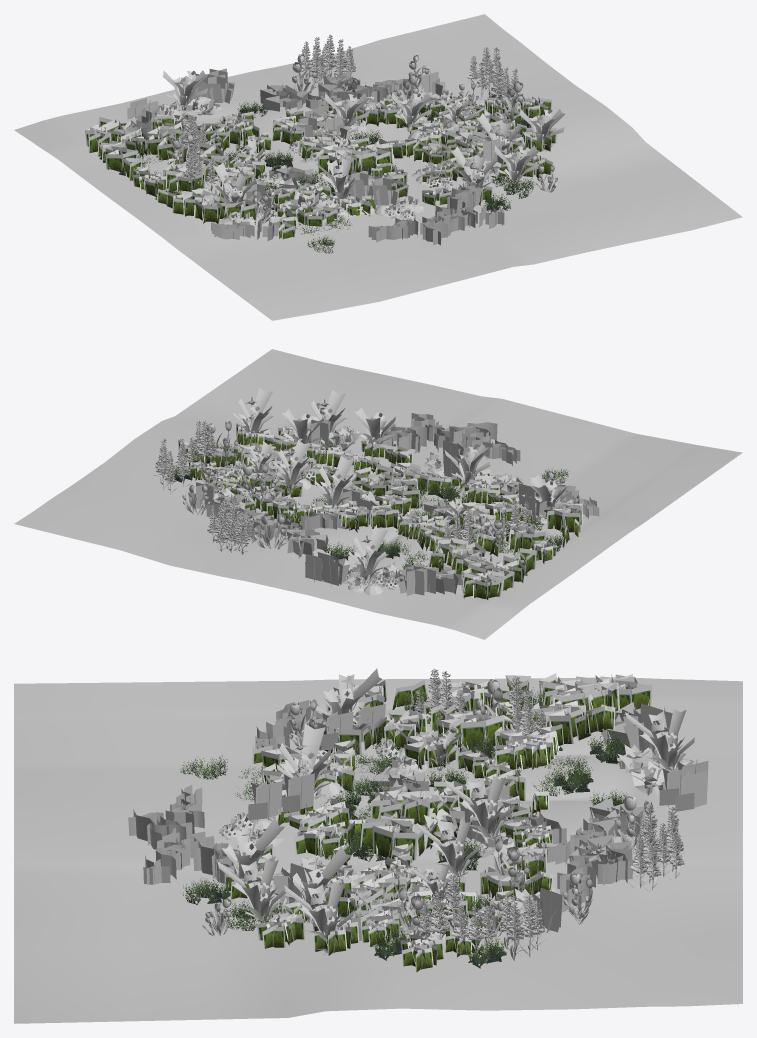
The model's file is CaoPing.fbx.
The picture shows the model from 3 angles, top to bottom: view 1: azimuth 30°, elevation 25°; view 2: azimuth 150°, elevation 25°; view 3: azimuth 270°, elevation 25°; orthographic projection. The views are drawn at different scales.
Parts seen in each view (by area): view 1: huanyuan_ground, bushe2, h02, h04, bushh1, bushd, flower02, Petal; view 2: huanyuan_ground, bushe2, h02, h04, bushh1, bushd, flower02, Petal; view 3: huanyuan_ground, bushe2, h02, bushh1, h04, bushd, flower02, Petal.
Part boxes in pixels (x1,y1,x2,y2): huanyuan_ground: [14, 14, 742, 320]; bushe2: [85, 92, 556, 239]; h02: [158, 70, 564, 225]; h04: [127, 68, 506, 216]; bushh1: [99, 73, 535, 253]; bushd: [211, 71, 504, 245]; flower02: [175, 34, 523, 191]; Petal: [171, 54, 557, 224]; huanyuan_ground: [14, 349, 742, 639]; bushe2: [178, 423, 582, 599]; h02: [210, 388, 568, 592]; h04: [188, 419, 547, 595]; bushh1: [165, 426, 569, 594]; bushd: [206, 413, 599, 538]; flower02: [153, 420, 532, 554]; Petal: [182, 403, 554, 552]; huanyuan_ground: [14, 677, 742, 1023]; bushe2: [224, 673, 652, 972]; h02: [217, 668, 694, 954]; bushh1: [180, 687, 646, 968]; h04: [248, 701, 708, 933]; bushd: [128, 700, 632, 912]; flower02: [414, 668, 686, 960]; Petal: [202, 679, 652, 937].
Bounding box in the file's own units: 1849 × 249 × 1757.
